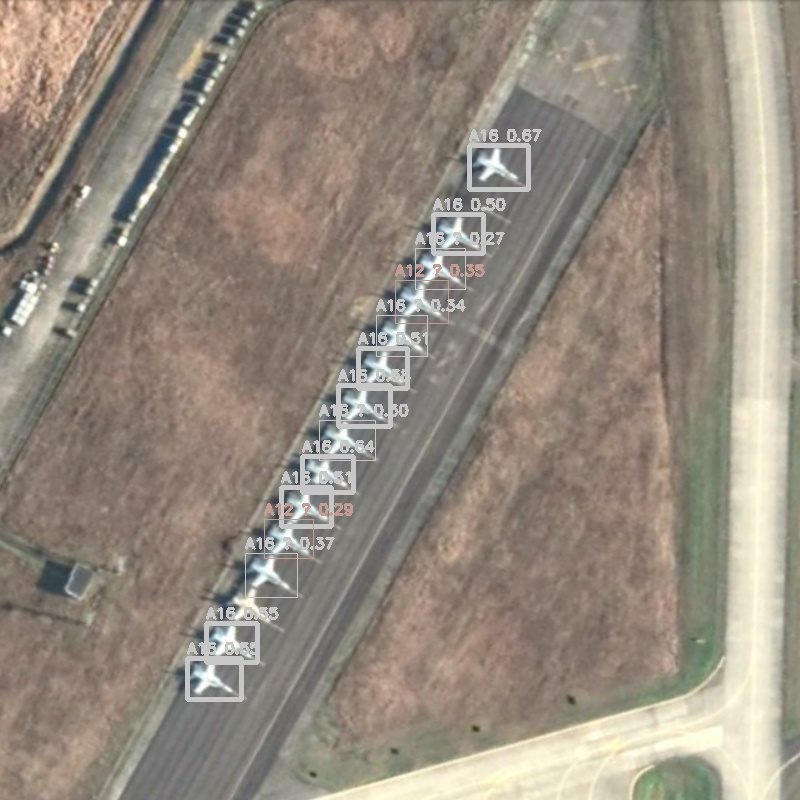A12: (395, 280, 448, 323), (264, 519, 313, 558)
A16: (469, 145, 528, 189), (245, 553, 297, 597), (319, 420, 375, 460), (187, 658, 241, 699), (338, 385, 390, 426), (376, 315, 427, 356), (415, 248, 465, 289), (206, 623, 257, 662), (358, 348, 407, 388), (281, 487, 331, 526), (433, 214, 483, 253), (302, 456, 353, 492)
